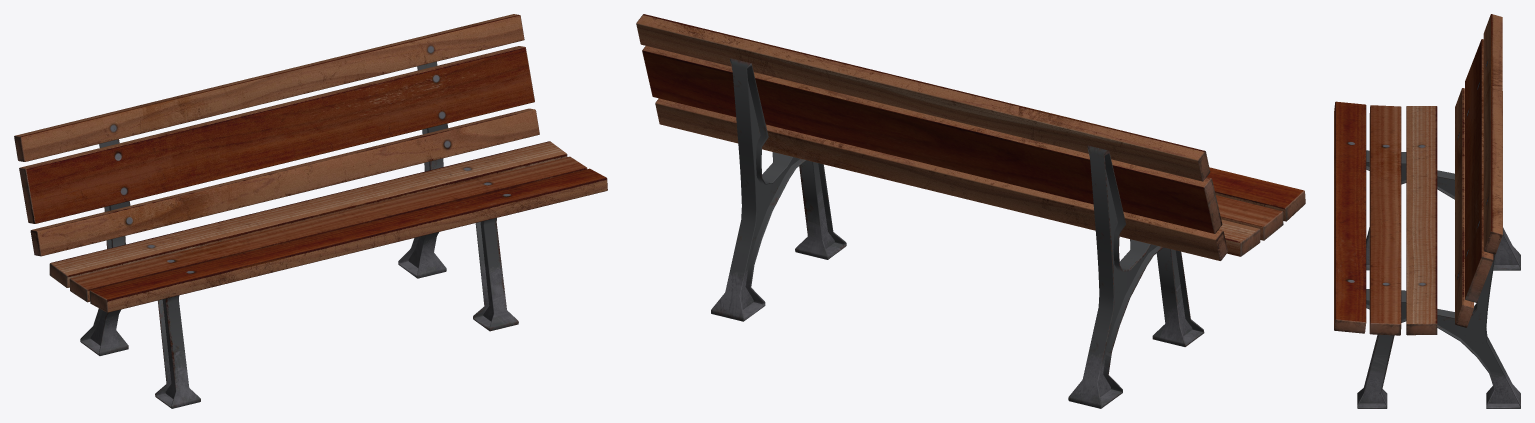
File: classic_park_bench_low_poly.glb
3 renders of one model, left to right at view 1: azimuth 30°, elevation 25°; view 2: azimuth 150°, elevation 25°; view 3: azimuth 270°, elevation 25°, orthographic. The views are drawn at different scales.
Parts seen in each view (by area): view 1: Cube.002 (×2), Cube.001; view 2: Cube.002 (×2), Cube.001; view 3: Cube.002 (×2), Cube.001.
Part boxes in pixels (box(x1,y1,x2,y2)): Cube.002 (×2): box(14, 14, 607, 312); Cube.001: box(80, 61, 518, 408); Cube.002 (×2): box(636, 14, 1305, 260); Cube.001: box(711, 58, 1204, 408); Cube.002 (×2): box(1334, 14, 1502, 335); Cube.001: box(1357, 150, 1520, 408).
Size of the model in its own units: 2 by 0.8992 by 0.723.
3 materials, 3 textured.
